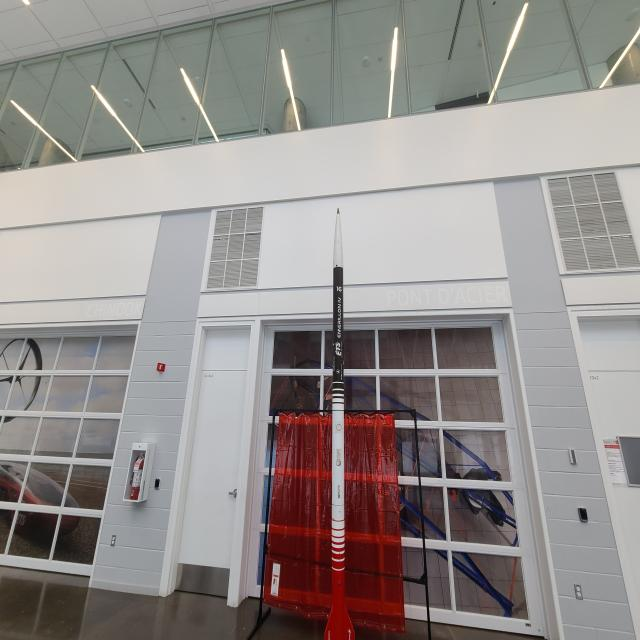Rocket: (324, 208, 355, 640)
